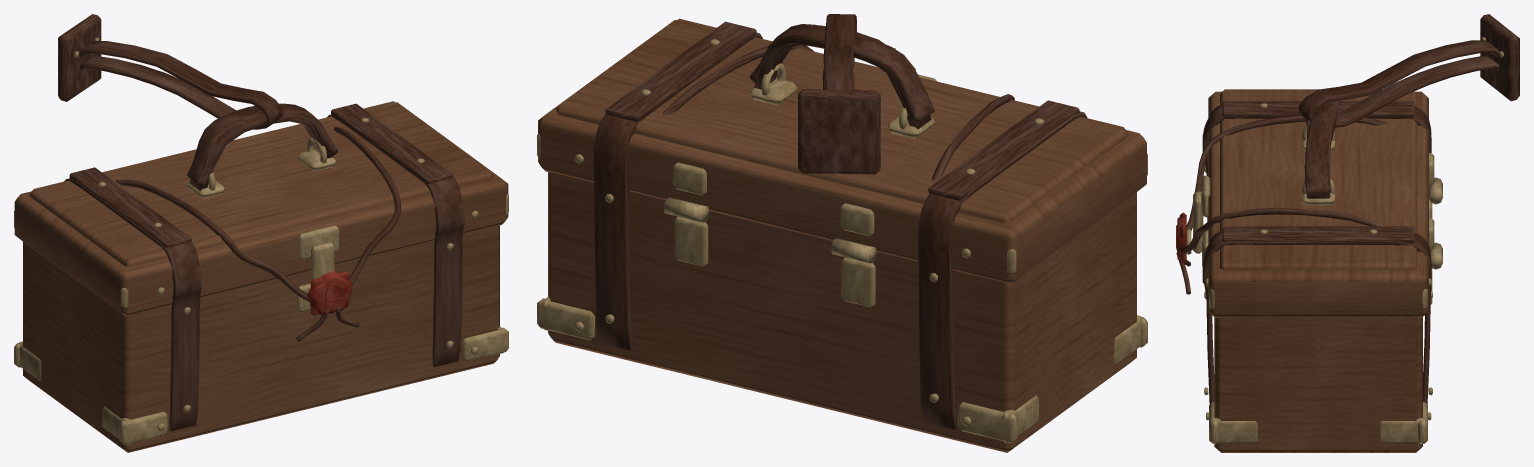
The model's file is godbridle_custody_case.glb.
3 views of the same model, side by side, from view 1: azimuth 30°, elevation 25°; view 2: azimuth 150°, elevation 25°; view 3: azimuth 270°, elevation 25° (orthographic). The views are drawn at different scales.
Visible parts, largest first — view 1: Custody_Far, Custody_Near, Custody_Carry_Loop; view 2: Custody_Far, Custody_Near, Custody_Carry_Loop; view 3: Custody_Far, Custody_Near, Custody_Carry_Loop.
Part boxes in pixels (x1,y1,x2,y2): Custody_Far: (14, 101, 508, 452); Custody_Near: (14, 103, 508, 444); Custody_Carry_Loop: (58, 14, 282, 129); Custody_Far: (538, 18, 1146, 452); Custody_Near: (537, 24, 1147, 442); Custody_Carry_Loop: (798, 14, 880, 174); Custody_Far: (1179, 89, 1428, 452); Custody_Near: (1176, 94, 1442, 443); Custody_Carry_Loop: (1298, 14, 1519, 127).
Size of the model in its own units: 0.565 by 0.4195 by 0.4395.
1 material, 1 textured.
